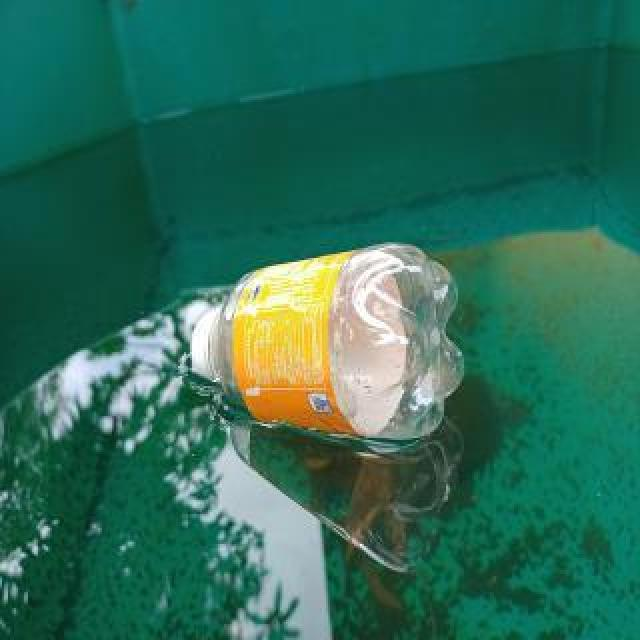bottle: (188, 238, 468, 446)
